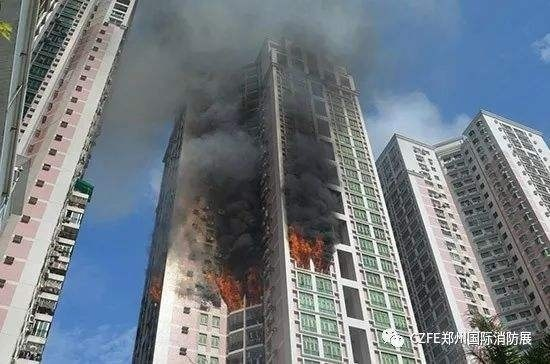fire: (206, 268, 266, 307), (287, 227, 328, 269), (145, 275, 163, 301)
